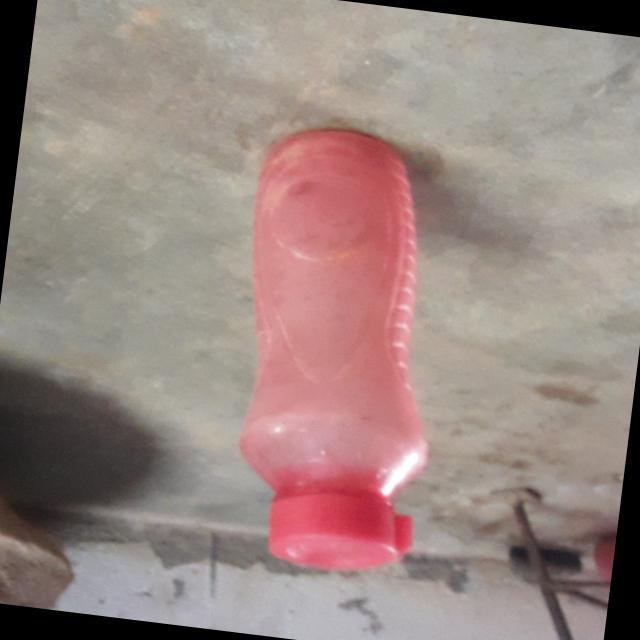good: (202, 115, 466, 585)
